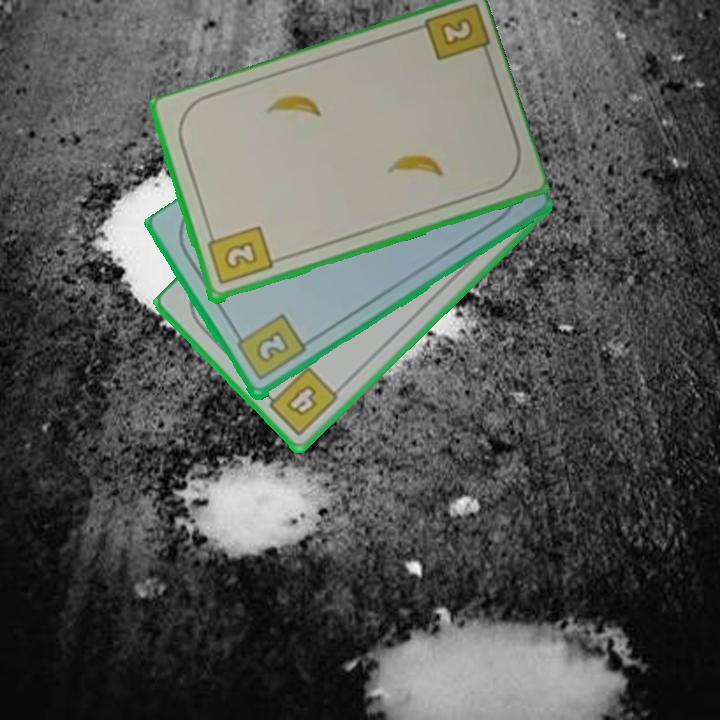2b: (231, 311, 309, 384), (203, 223, 275, 288), (436, 14, 476, 49)
4b: (259, 363, 342, 439)
